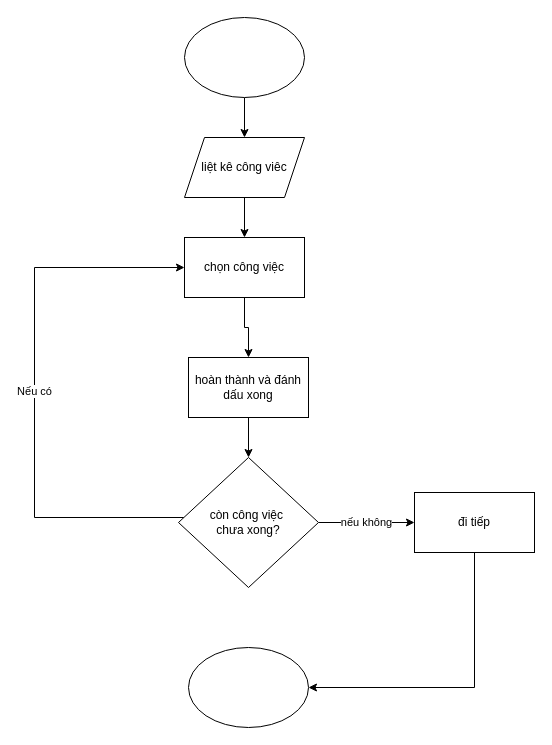
Some shapes in this 552 by 745 pixel diagram are drawn without their labels. The shapes that lost their labels are listed below. From the top down, each one's centre as x and y in pixels, then its label:
(244,57): start
(248,687): end
